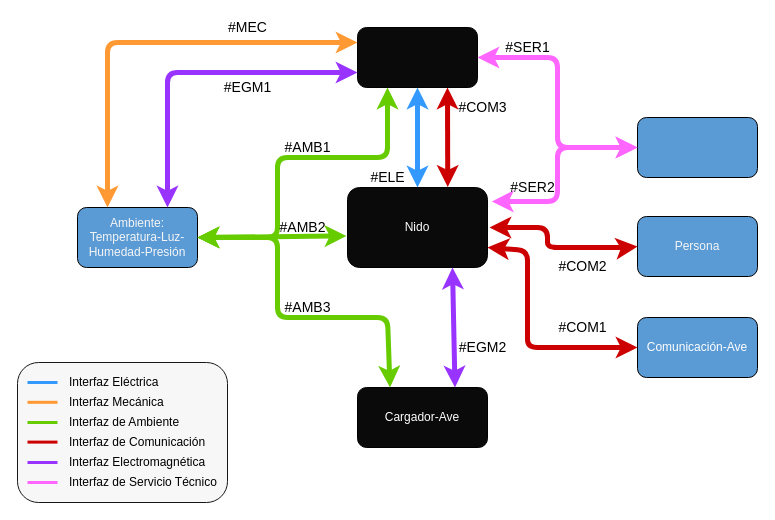
Some shapes in this 775 by 520 pixel diagram are drawn without their labels. The centre of each missing label's shape, as x and y in pixels:
Servicio Técnico: (x=697, y=147)
Unidad de Energía: (x=417, y=57)
